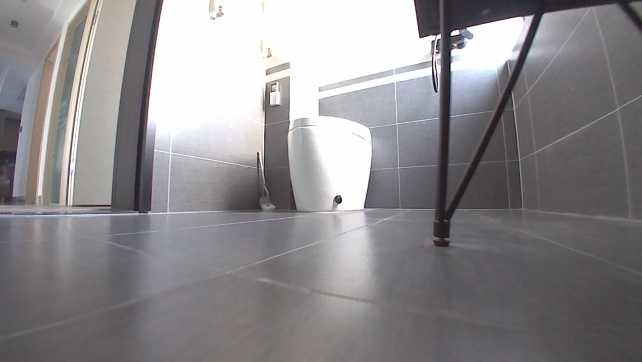toilet: (279, 113, 375, 211)
